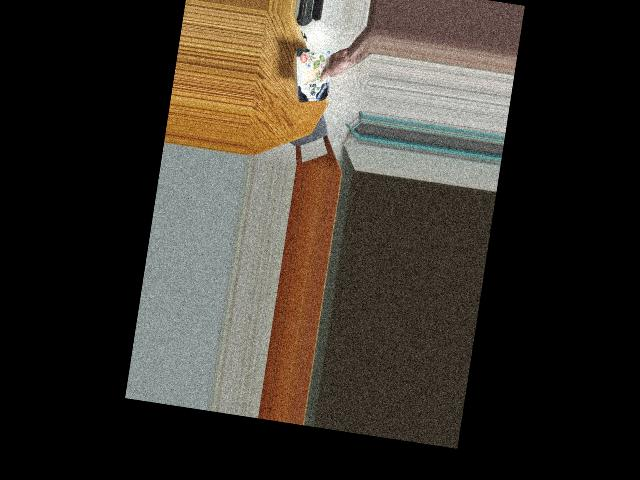cheese: (288, 46, 336, 105)
